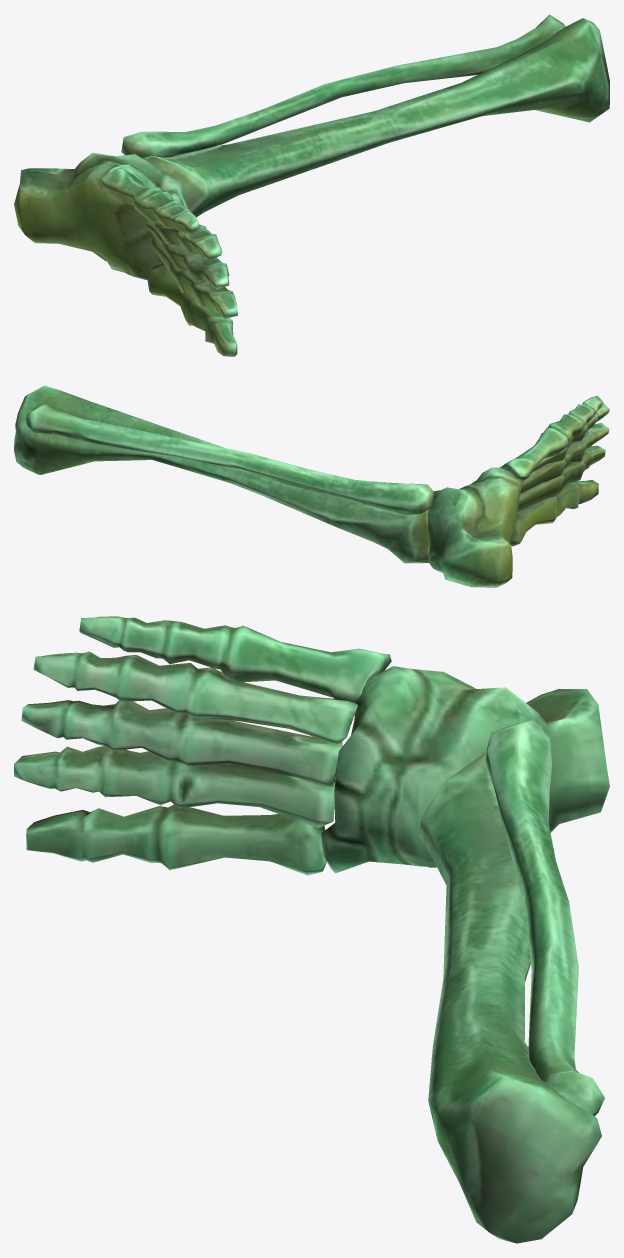
3 views of the same model, one above another, from view 1: azimuth 30°, elevation 25°; view 2: azimuth 150°, elevation 25°; view 3: azimuth 270°, elevation 25° (orthographic). The views are drawn at different scales.
Visible parts, largest first — view 1: SM_U_MED_Skeleton_Human_calf_r_LOD0; view 2: SM_U_MED_Skeleton_Human_calf_r_LOD0; view 3: SM_U_MED_Skeleton_Human_calf_r_LOD0.
Boxes of the visible parts, x1,y1,x2,y2 form: SM_U_MED_Skeleton_Human_calf_r_LOD0: (14,14,609,356); SM_U_MED_Skeleton_Human_calf_r_LOD0: (14,385,609,587); SM_U_MED_Skeleton_Human_calf_r_LOD0: (14,616,609,1243).
Bounding box in the file's own units: 0.5242 × 0.1153 × 0.2801.
1 material, 1 textured.
